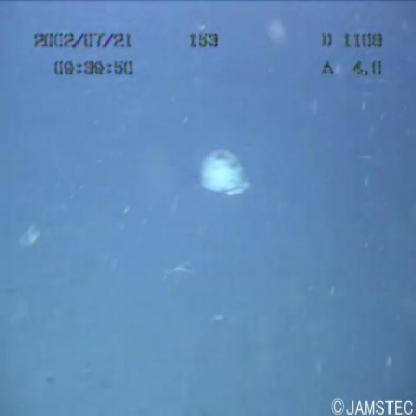Rác: (187, 138, 261, 198)
